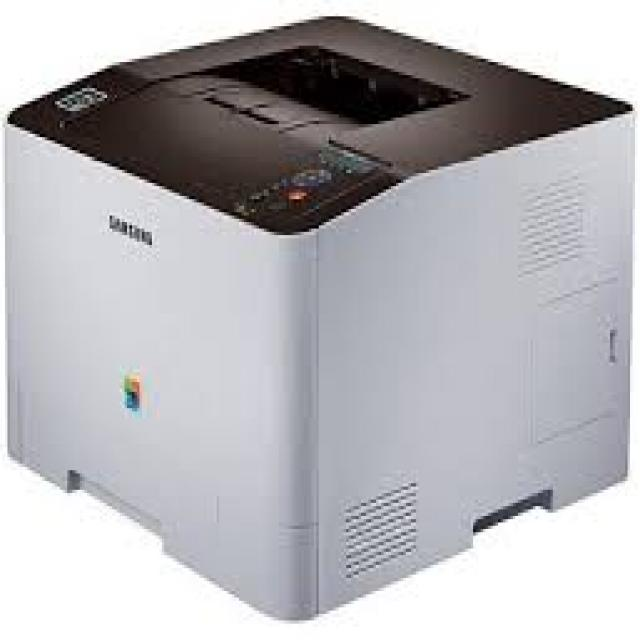printer: (2, 3, 640, 636)
